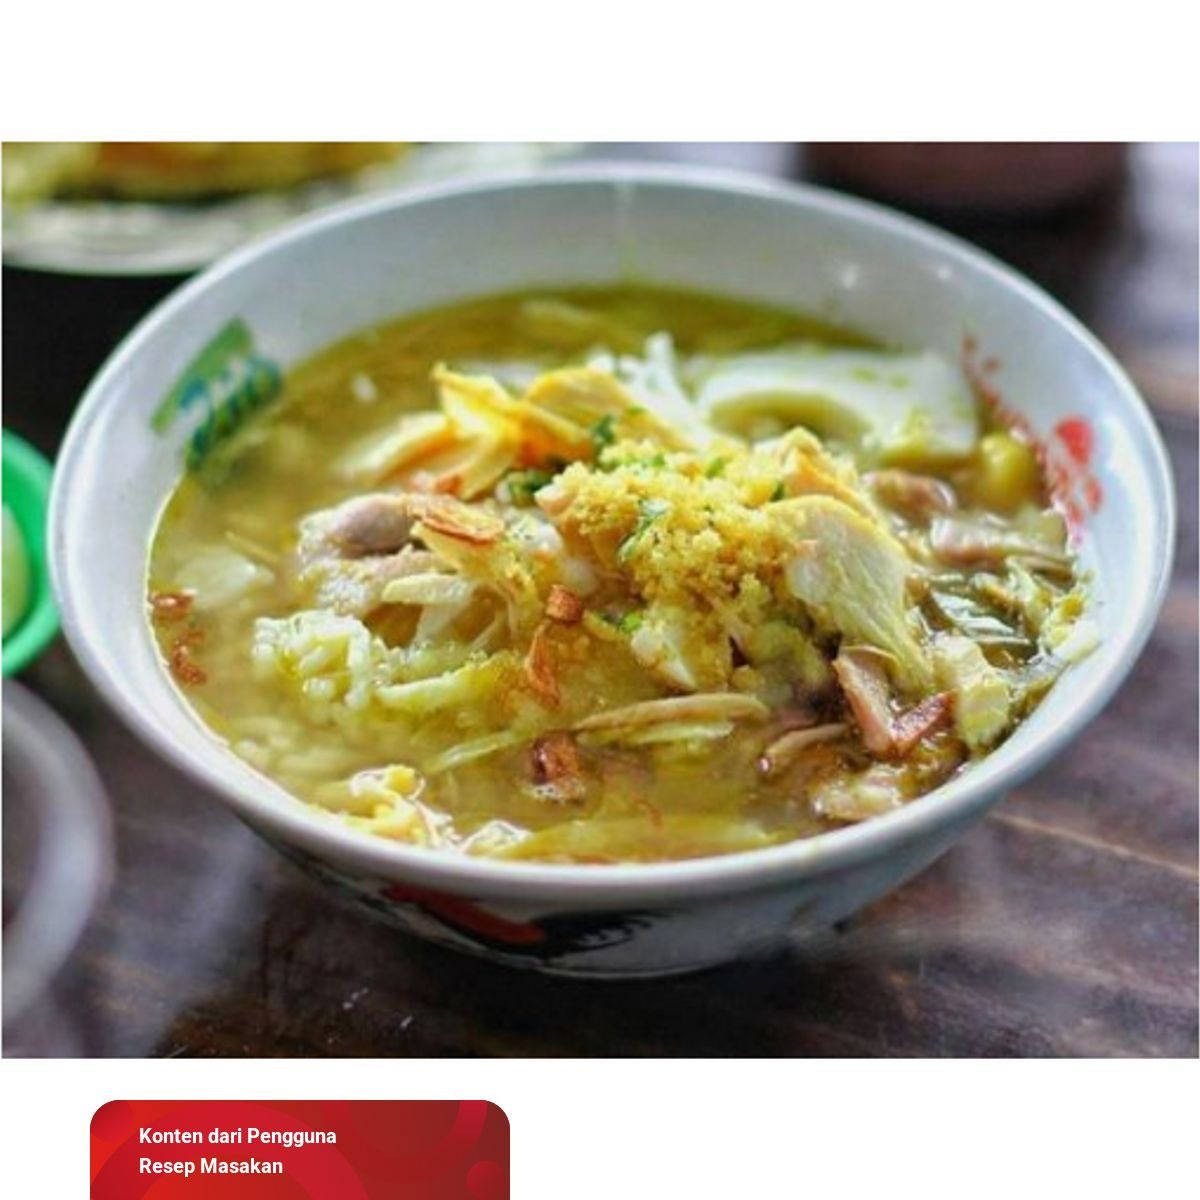soto: (149, 212, 1098, 858)
